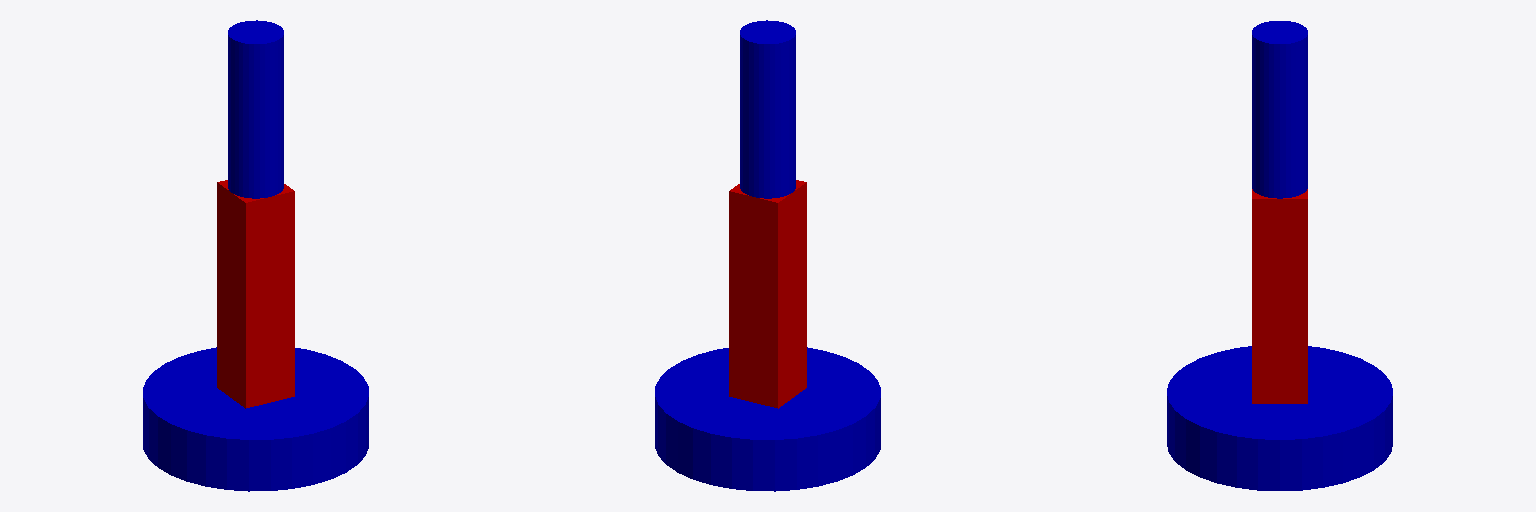
URDF robot description (simple_arm):
<robot name="simple_arm">
    <!-- 定义颜色，用于rviz显示 -->
    <material name="blue">
        <color rgba="0 0 0.8 1"/>
    </material>
    <material name="red">
        <color rgba="0.8 0 0 1"/>
    </material>
    <!-- 基座 -->
    <link name="base_link">
        <visual>
            <geometry>
                <cylinder length="0.1" radius="0.2"/>
            </geometry>
            <material name="blue"/>
        </visual>
        <collision>
            <geometry>
                <cylinder length="0.1" radius="0.2"/>
            </geometry>
        </collision>
    </link>
    <!-- 连杆1 -->
    <link name="link_1">
        <visual>
            <geometry>
                <box size="0.1 0.1 0.4"/>
            </geometry>
            <origin xyz="0 0 0.2" rpy="0 0 0"/>
            <material name="red"/>
        </visual>
        <collision>
            <geometry>
                <box size="0.1 0.1 0.4"/>
            </geometry>
            <origin xyz="0 0 0.2" />
        </collision>
    </link>
    <!-- 节点1（连接基座和连杆1） -->
    <joint name="joint_1" type="revolute">
        <parent link="base_link" />
        <child link="link_1" />
        <origin xyz="0 0 0.05" rpy="0 0 0" />
        <axis xyz="0 1 0" />
        <limit lower="-1.0" upper="1.0" effort="10" velocity="1"/>
    </joint>
    <!-- 连杆2 -->
    <link name="link_2">
        <visual>
            <origin xyz="0 0 0.15" rpy="0 0 0" />
            <geometry>
                <cylinder radius="0.05" length="0.3" />
            </geometry>
            <material name="blue"/>
        </visual>
        <collision>
            <origin xyz="0 0 0.15" rpy="0 0 0" />
            <geometry>
                <cylinder radius="0.05" length="0.3" />
            </geometry>
        </collision>
    </link>
    <!-- 节点2（连接连杆1和连杆2） -->
    <joint name="joint_2" type="revolute">
        <parent link="link_1" />
        <child link="link_2" />
        <origin xyz="0 0 0.4" rpy="0 0 0" />
        <axis xyz="1 0 0" />
        <limit lower="-1.0" upper="1.0" effort="10" velocity="1"/>
    </joint>

</robot>

--- Facts derived from the render (not from the file) ---
Views: 3 orthographic renders of the robot side by side, from view 1: azimuth 30°, elevation 25°; view 2: azimuth 150°, elevation 25°; view 3: azimuth 270°, elevation 25°.
Model simple_arm with 3 links and 2 joints (2 revolute), rooted at base_link, posed every joint at zero.
Links seen in each view (by area): view 1: base_link, link_1, link_2; view 2: base_link, link_1, link_2; view 3: base_link, link_1, link_2.
Boxes of the visible links, x1,y1,x2,y2 form: base_link: (143, 347, 368, 491); link_1: (217, 180, 294, 408); link_2: (228, 20, 283, 198); base_link: (655, 347, 880, 491); link_1: (729, 180, 806, 408); link_2: (740, 20, 795, 198); base_link: (1167, 346, 1392, 490); link_1: (1252, 189, 1307, 403); link_2: (1252, 21, 1307, 198).
Bounding box of the posed robot: 0.4 × 0.4 × 0.8 m (x, y, z).
Geometry: primitives only (box / cylinder / sphere), no mesh files.
